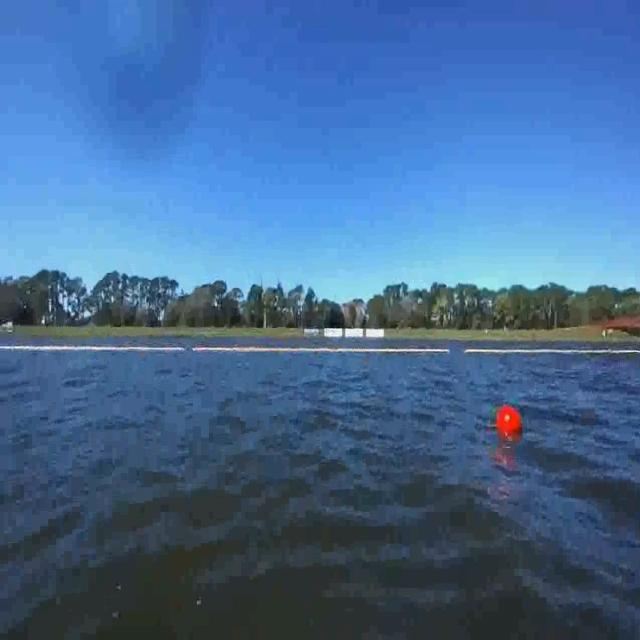red-buoy: (496, 406, 523, 441)
